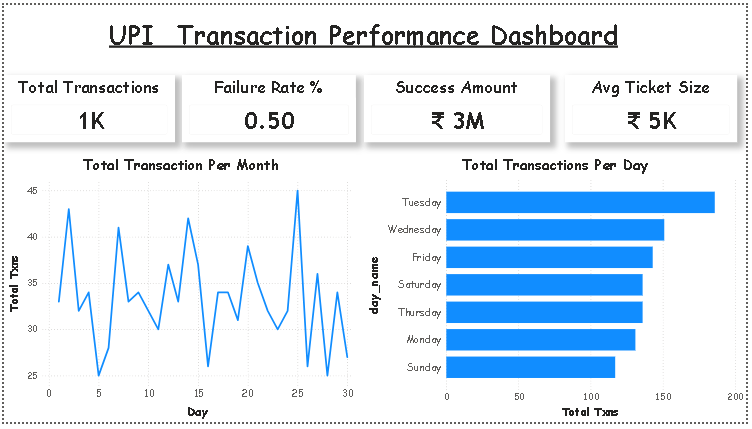

The page's visual inventory and layout, read from the dashboard file:
{"tool":"powerbi","page":{"name":"Dashboard","canvas":[1280,720],"ordinal":0},"visuals":[{"type":"textbox","box":[10.4,13.8,1219.6,72.5],"z":0},{"type":"cardVisual","title":"Total Transactions","fields":{"Data":["transactions.Total Txns"]},"box":[0,120.8,295,115.6],"z":1000},{"type":"cardVisual","title":"Failure Rate %","fields":{"Data":["transactions.Failure Rate %"]},"box":[307.1,120.8,300.2,115.6],"z":2000},{"type":"cardVisual","title":"Success Amount","fields":{"Data":["transactions.Success Amount"]},"box":[621,120.8,320.9,115.6],"z":3000},{"type":"cardVisual","title":"Avg Ticket Size","fields":{"Data":["transactions.Avg Ticket Size"]},"box":[967.8,120.8,296.7,115.6],"z":4000},{"type":"lineChart","title":"Total Transaction Per Month","fields":{"Category":["transactions.date.Variation.Date Hierarchy.Day"],"Y":["transactions.Total Txns"]},"box":[3.5,257,603.8,462.3],"z":5000},{"type":"clusteredBarChart","title":"Total Transactions Per Day","fields":{"Category":["transactions.day_name"],"Y":["transactions.Total Txns"]},"box":[621,257,659,462.3],"z":6000}]}

Visuals, with their boxes in screenshot pixels (x1, y1, x2, y2), scaled from the page's 1280x720 canvas onto the 752x429 screenshot:
textbox: bbox(6, 8, 723, 51)
"Total Transactions" cardVisual: bbox(0, 72, 173, 141)
"Failure Rate %" cardVisual: bbox(180, 72, 357, 141)
"Success Amount" cardVisual: bbox(365, 72, 553, 141)
"Avg Ticket Size" cardVisual: bbox(569, 72, 743, 141)
"Total Transaction Per Month" lineChart: bbox(2, 153, 357, 428)
"Total Transactions Per Day" clusteredBarChart: bbox(365, 153, 751, 428)
